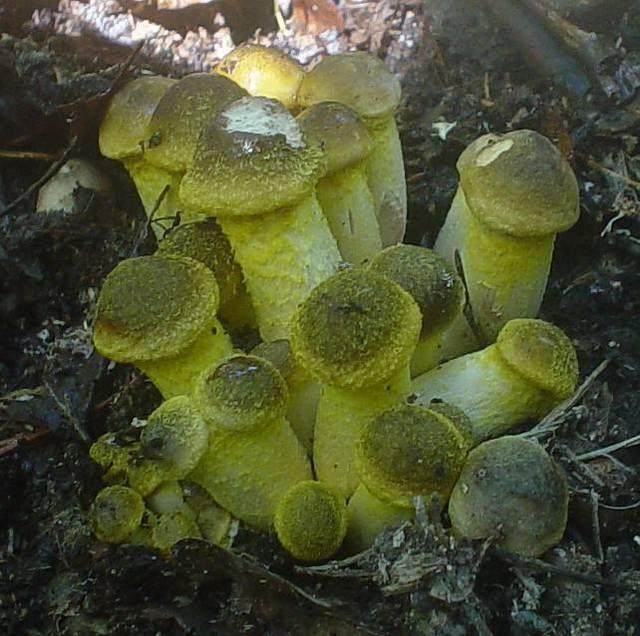Edible Mushroom: (88, 41, 582, 562)
